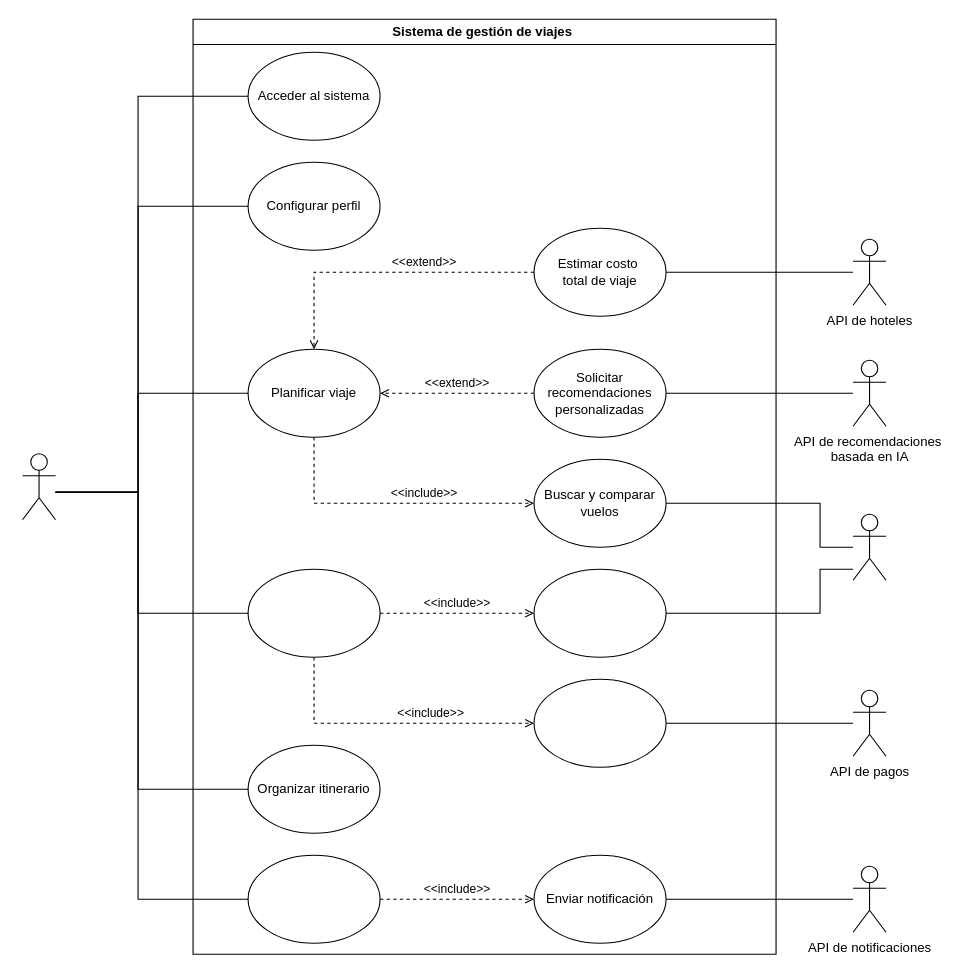
This 964x975 diagram has some shape labels left out. The centre of each missing label's shape, as x and y in pixels:
API de vuelos: the point at 869,546
Procesar pago: the point at 599,722
Recibir alertas de viaje: the point at 313,898
Reservar viaje: the point at 313,612
Verificar disponibilidad y precio: the point at 599,612
Viajero: the point at 38,486
